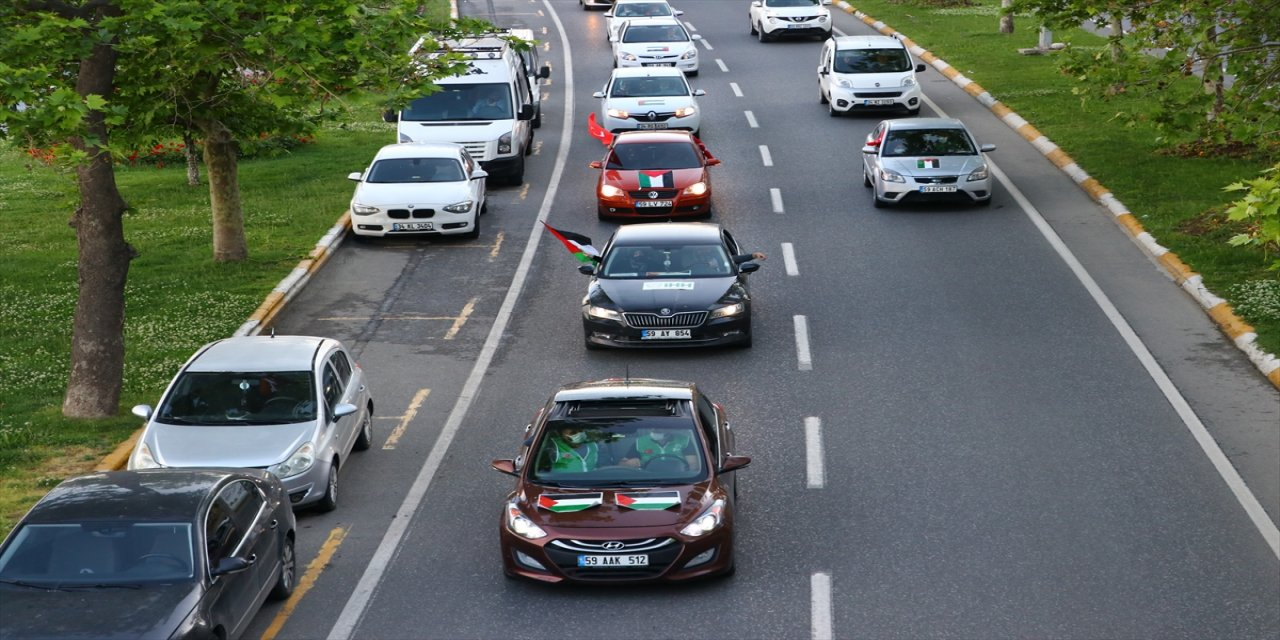Car: (491, 378, 752, 584), (0, 468, 297, 640), (127, 335, 375, 511), (381, 28, 539, 185), (580, 222, 761, 349), (348, 141, 487, 237), (860, 117, 996, 207), (588, 130, 720, 220), (815, 35, 926, 116), (593, 65, 706, 135), (609, 18, 702, 76), (603, 0, 684, 50), (512, 28, 549, 129), (748, 0, 834, 42), (577, 0, 615, 11)
